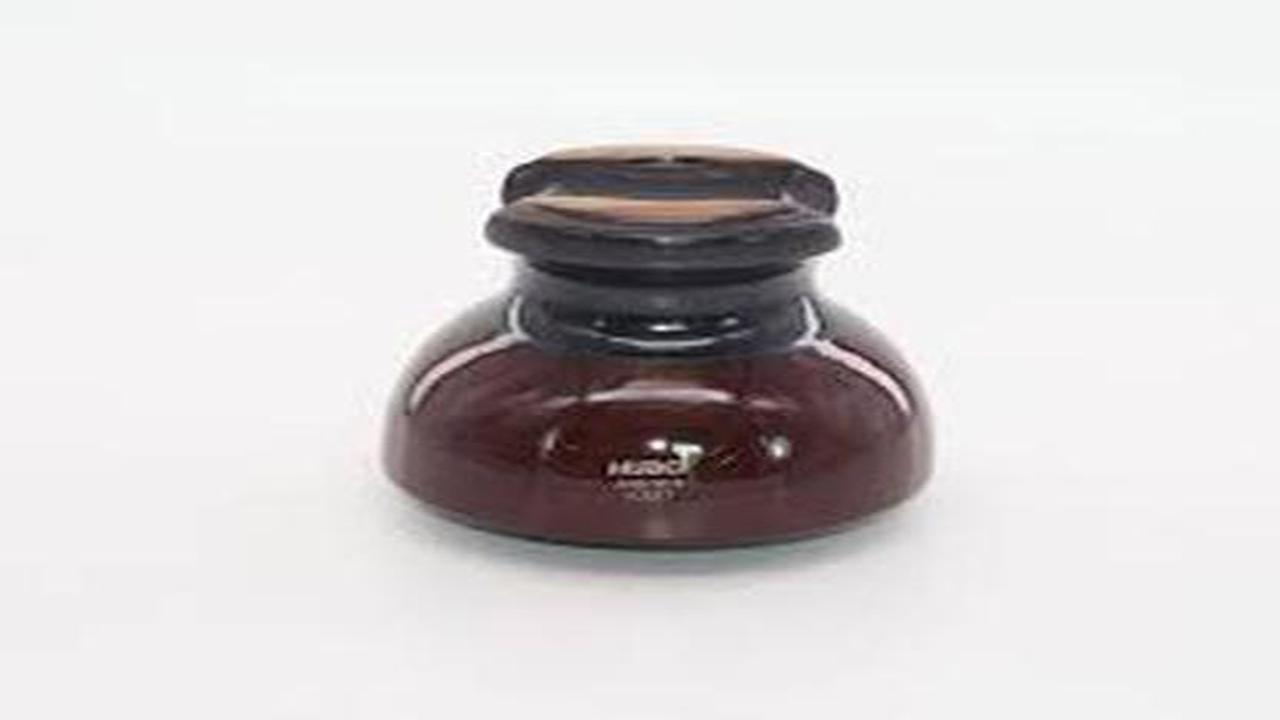insulator_pin: (373, 130, 967, 573)
